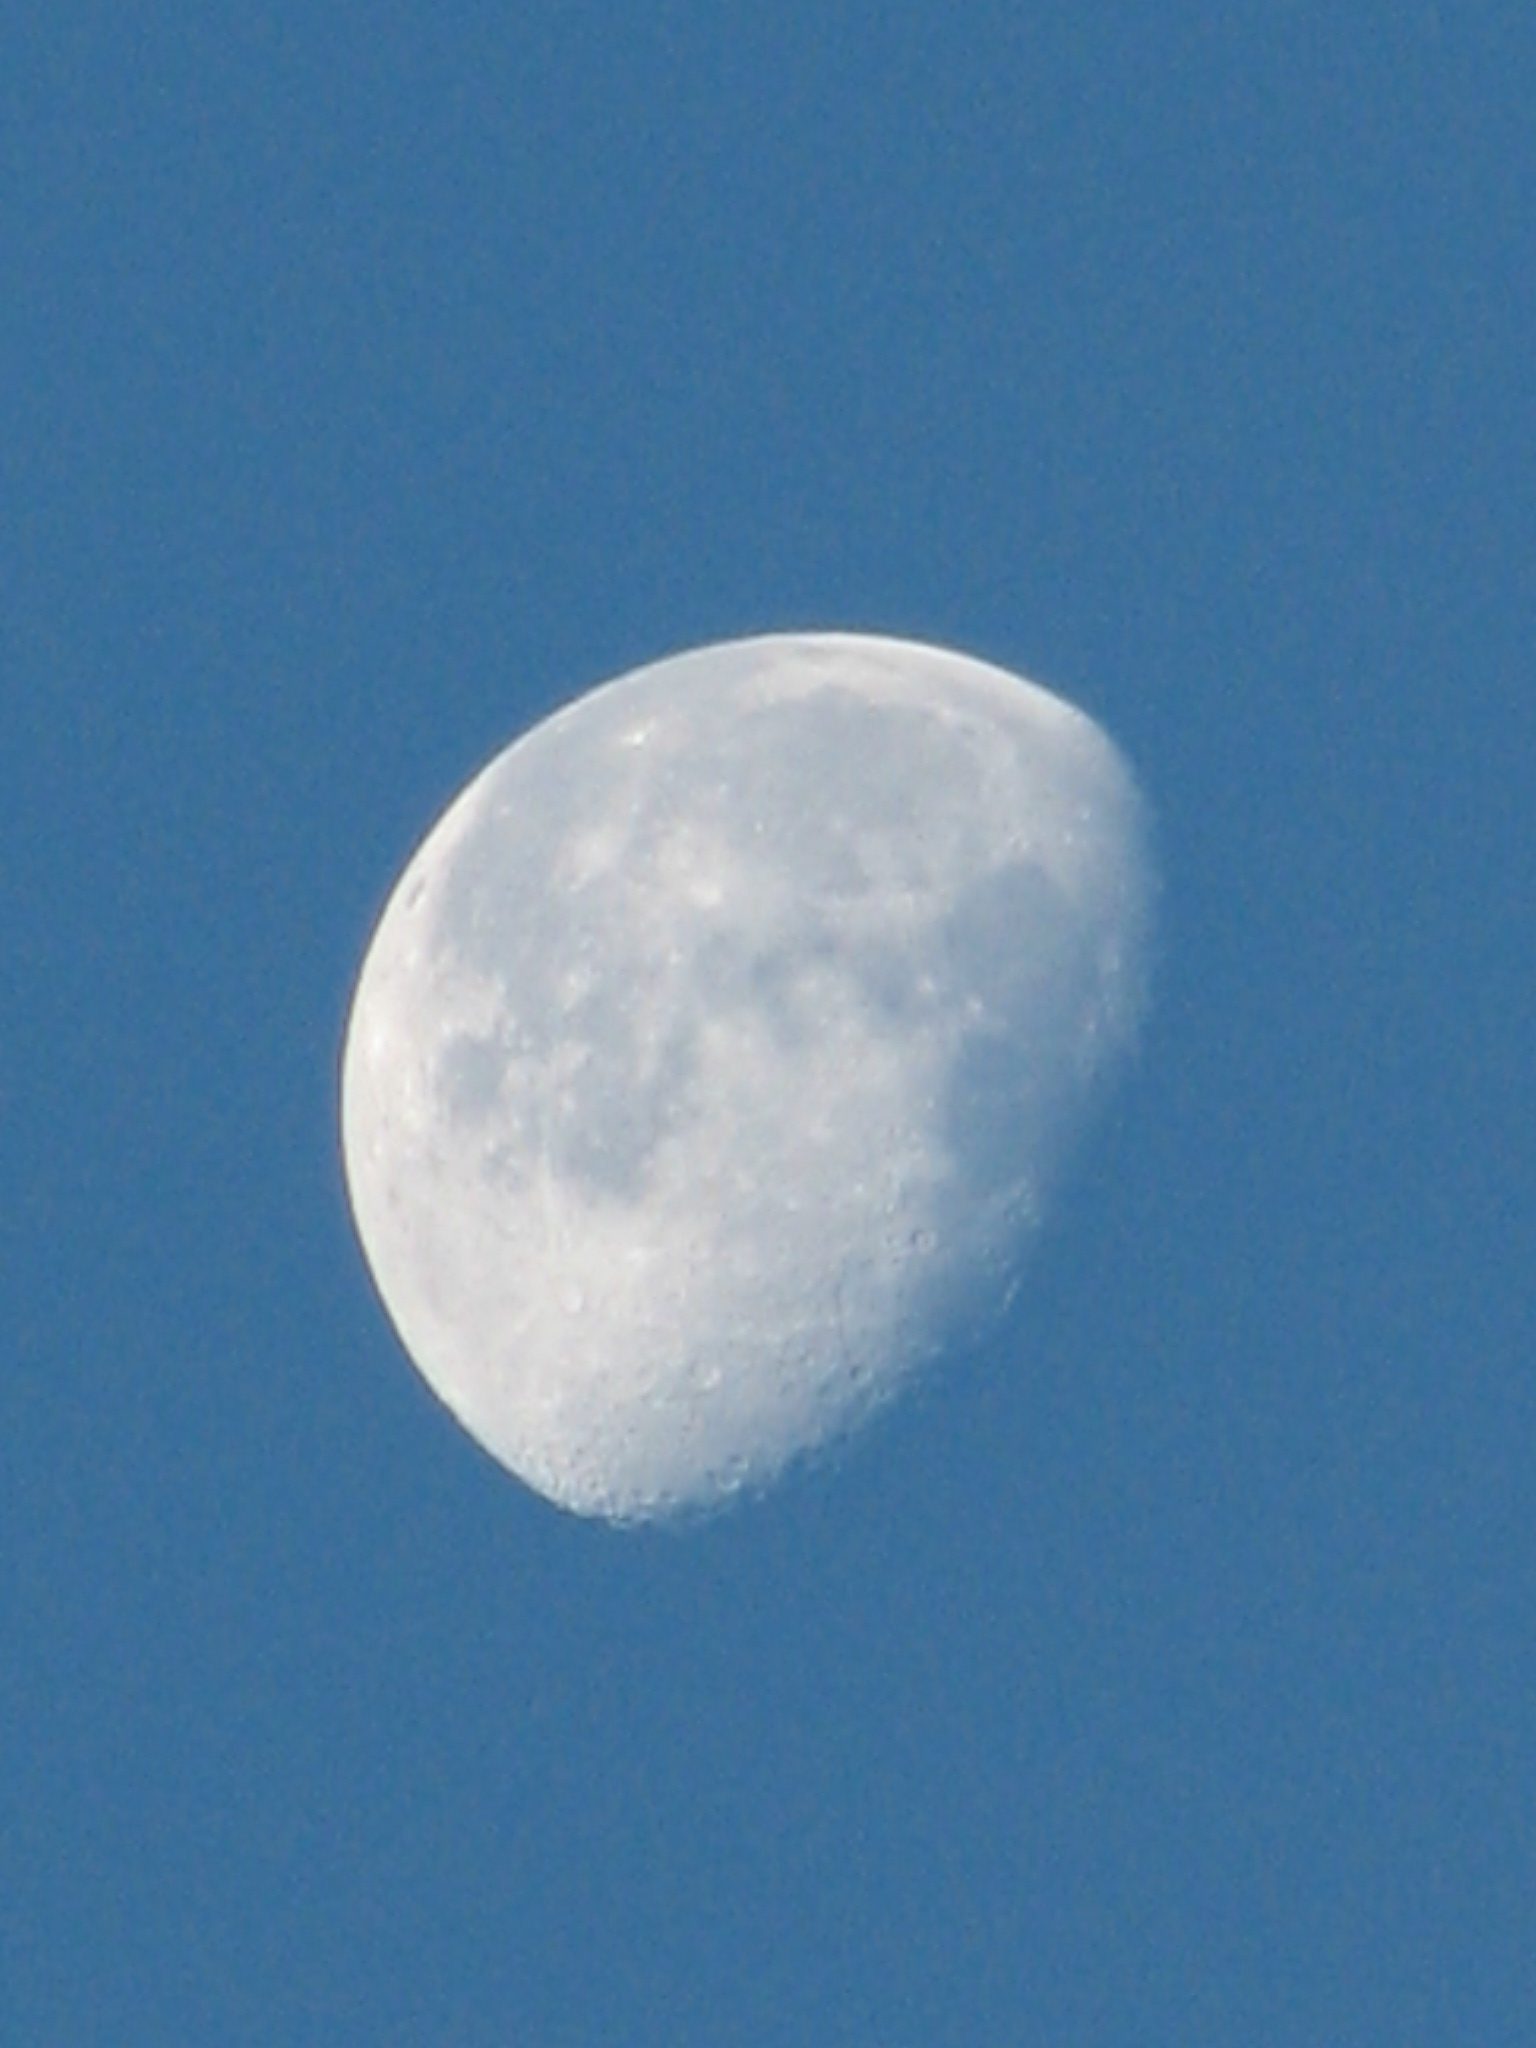crater: (532, 1255, 618, 1342), (665, 1343, 729, 1395), (886, 1305, 933, 1367), (400, 868, 445, 922), (900, 1218, 949, 1264), (657, 924, 695, 980), (836, 1355, 879, 1405)
